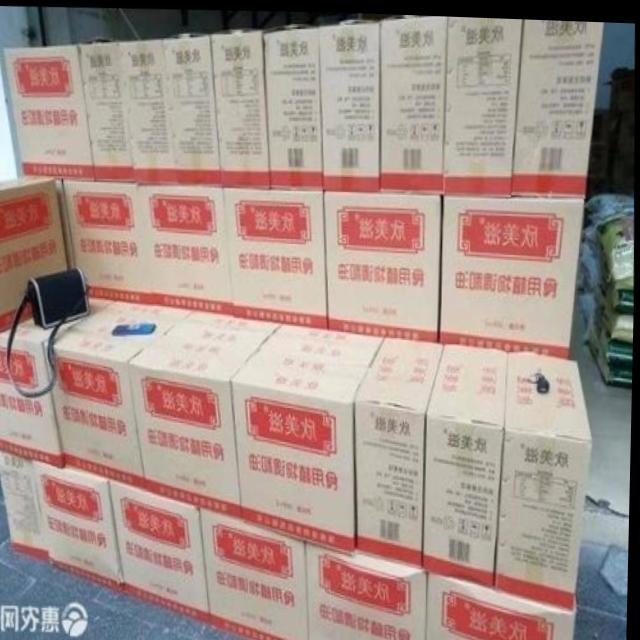box: (232, 320, 385, 552), (131, 310, 282, 519), (45, 301, 189, 488), (494, 348, 593, 610), (442, 193, 585, 352), (355, 331, 445, 565), (423, 340, 509, 584), (0, 296, 112, 464), (324, 190, 445, 337), (512, 15, 603, 194), (223, 187, 328, 326), (112, 481, 213, 625), (202, 509, 313, 640), (444, 13, 522, 191), (3, 44, 97, 178), (34, 460, 128, 592), (306, 541, 430, 640), (138, 186, 234, 312), (380, 13, 447, 189), (62, 178, 152, 303), (0, 178, 70, 331), (319, 18, 380, 188), (429, 571, 576, 640), (263, 24, 324, 187), (212, 28, 271, 185), (164, 32, 222, 182), (117, 39, 176, 181), (78, 42, 135, 180), (0, 452, 52, 563)
